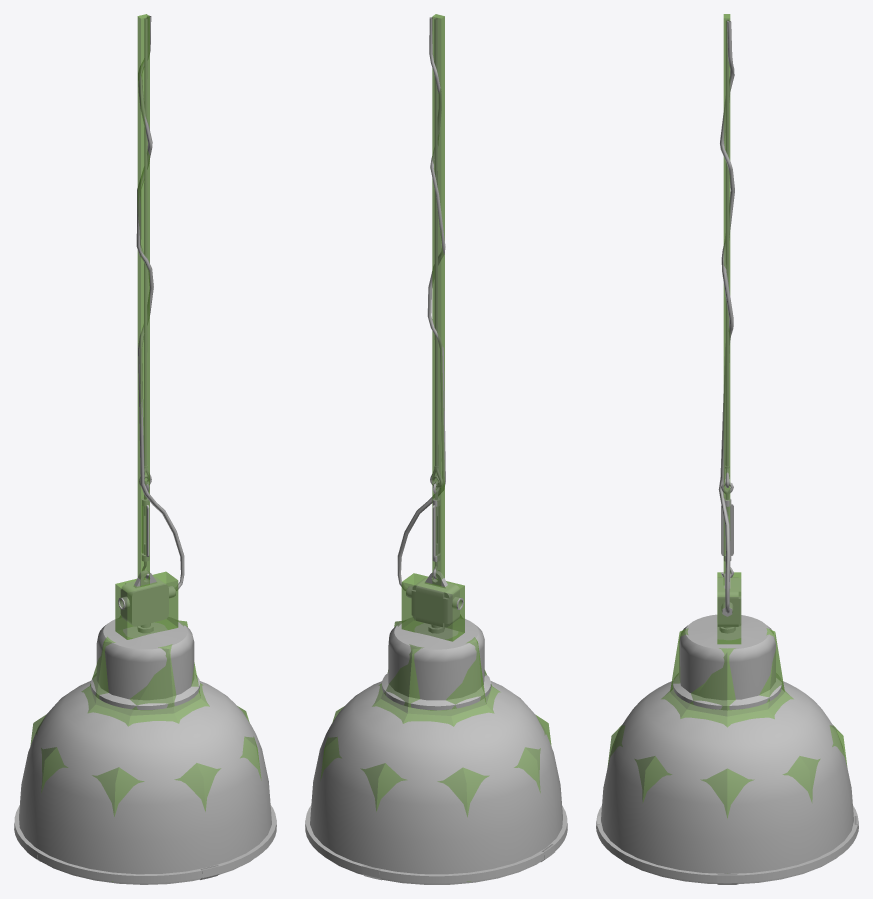
File: p_Light_01_a.fbx
The picture shows the model from 3 angles, left to right: view 1: azimuth 30°, elevation 25°; view 2: azimuth 150°, elevation 25°; view 3: azimuth 270°, elevation 25°; orthographic projection.
Visible parts, largest first — view 1: p_Light_01_a_LOD0, p_Light_01_a_col; view 2: p_Light_01_a_LOD0, p_Light_01_a_col; view 3: p_Light_01_a_LOD0, p_Light_01_a_col.
Boxes of the visible parts, x1=… form: p_Light_01_a_LOD0: x1=14, y1=15, x2=276, y2=884; p_Light_01_a_col: x1=30, y1=14, x2=261, y2=881; p_Light_01_a_LOD0: x1=305, y1=17, x2=567, y2=884; p_Light_01_a_col: x1=320, y1=14, x2=551, y2=881; p_Light_01_a_LOD0: x1=596, y1=19, x2=858, y2=884; p_Light_01_a_col: x1=607, y1=14, x2=847, y2=818.
Size of what is drawn, in the model's own units: 51.66 by 177 by 51.66.
